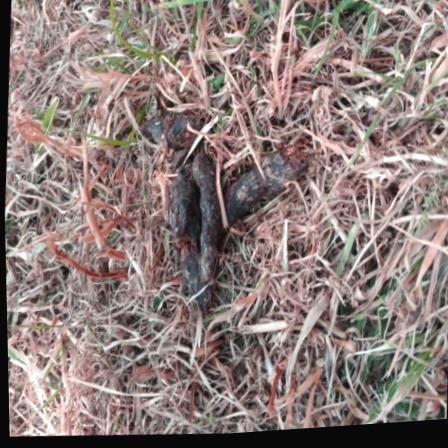dog-poop: (127, 99, 296, 322)
